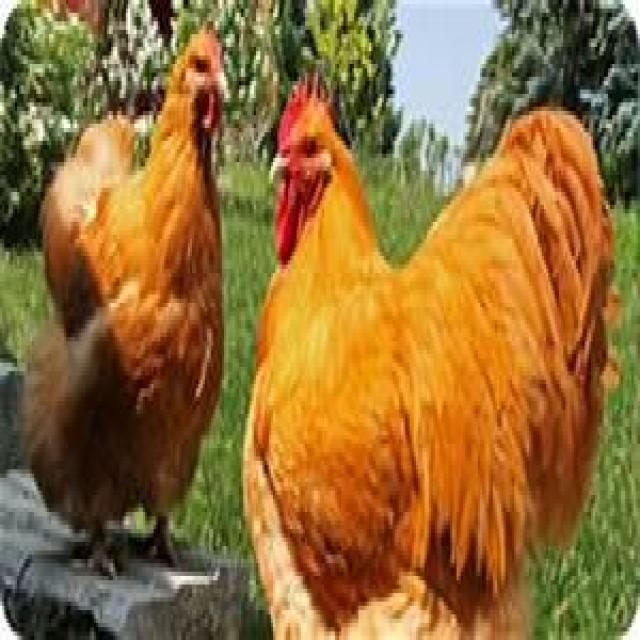hen: (19, 4, 621, 640), (237, 73, 623, 640)
